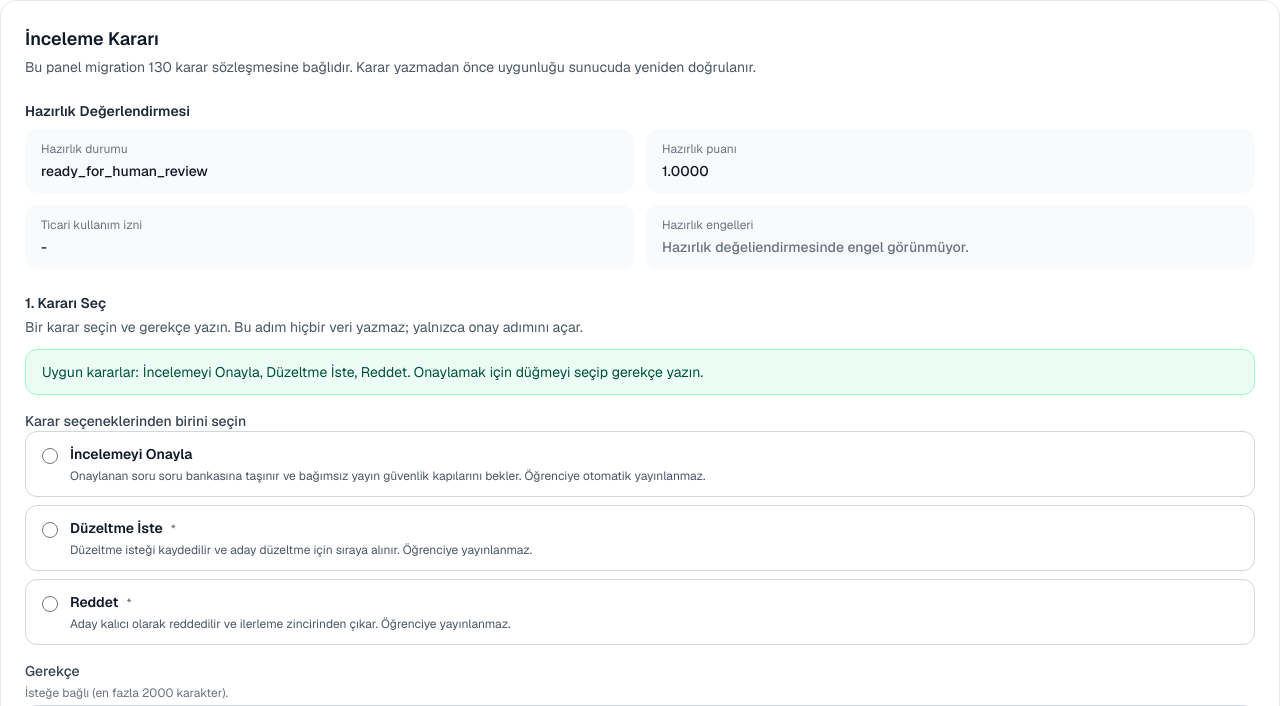
Test: gerekçe zorunluluğu › request_changes seçilince gerekçe zorunlu görünür
This screenshot has width=1280, height=706.
Click the radio button labelled "Düzeltme İste" at {"x": 50, "y": 530}, box [42,522,58,538]
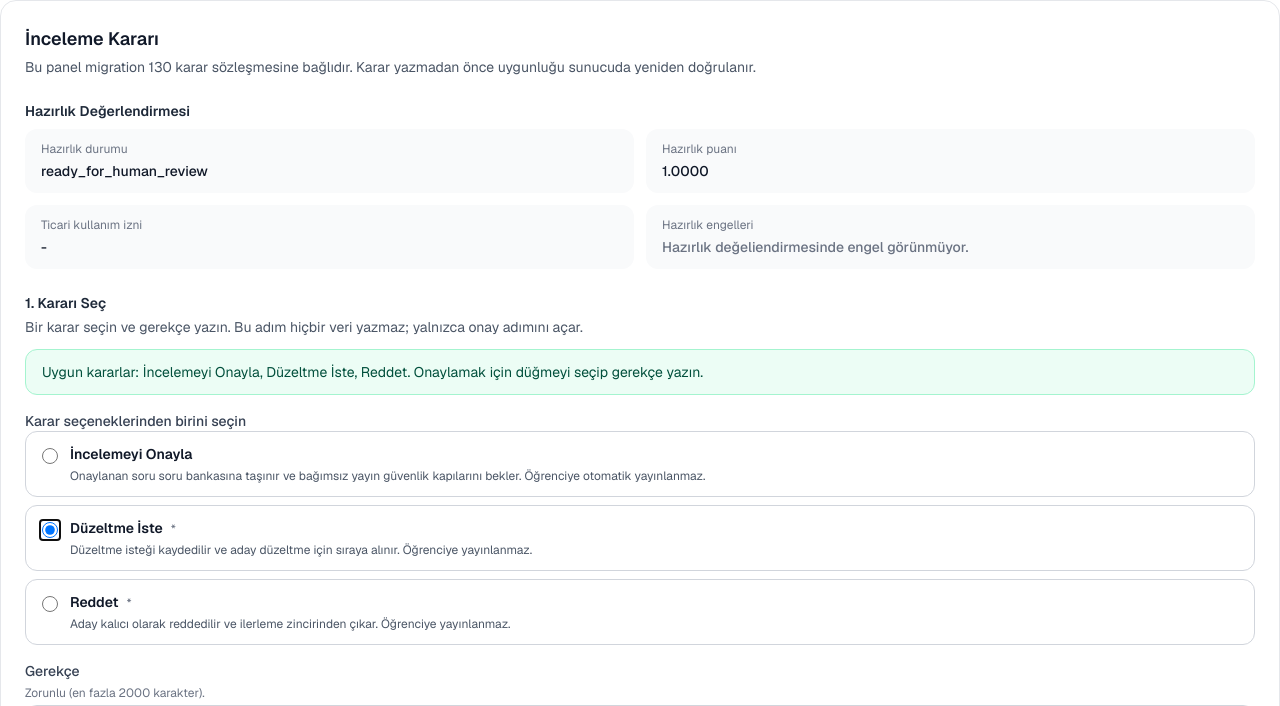
Expected: the text "Zorunlu (en fazla 2000 karakter)." is shown, [25,685,205,701]
